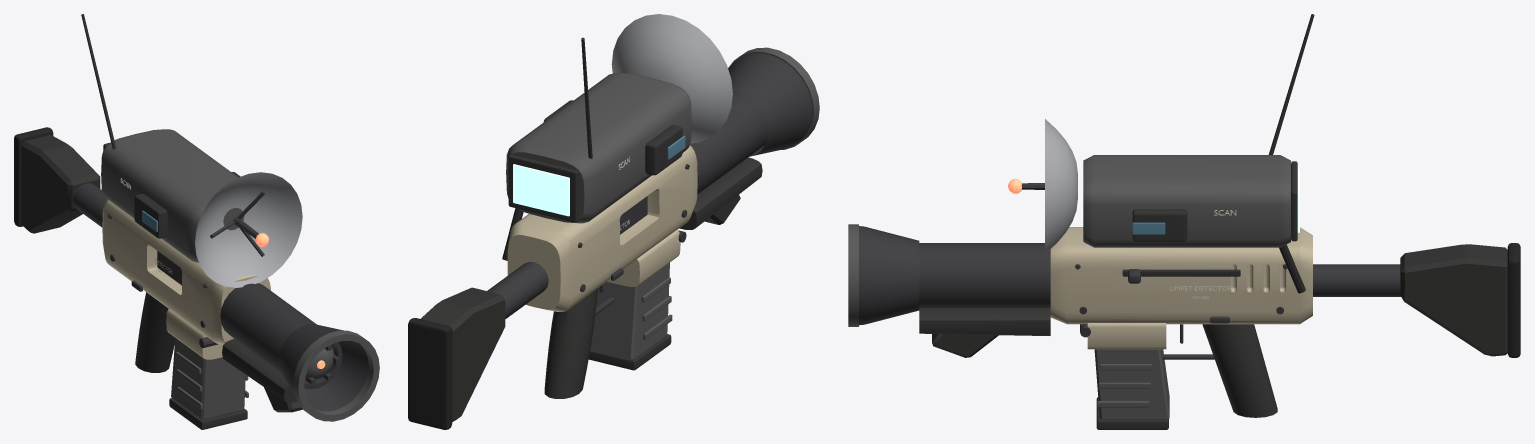
File: detector.glb
The picture shows the model from 3 angles, left to right: view 1: azimuth 30°, elevation 25°; view 2: azimuth 150°, elevation 25°; view 3: azimuth 270°, elevation 25°; orthographic projection. The views are drawn at different scales.
Parts seen in each view (by area): view 1: Body; view 2: Body; view 3: Body.
Part boxes in pixels (box(x1,y1,x2,y2)): Body: box(14, 14, 379, 429); Body: box(408, 14, 819, 429); Body: box(848, 14, 1520, 429).
Size of the model in its own units: 0.124 by 0.3844 by 0.615.
